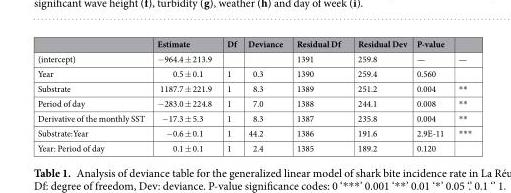table: (36, 37, 471, 153)
table column: (36, 37, 150, 153), (150, 37, 218, 153), (348, 37, 411, 153), (289, 37, 348, 153), (241, 37, 289, 153), (411, 37, 450, 153), (218, 37, 241, 153), (450, 37, 471, 153)
table column header: (36, 37, 471, 50)
table row: (36, 50, 471, 65), (36, 65, 471, 80), (36, 80, 471, 95), (36, 95, 471, 110), (36, 110, 471, 125), (36, 125, 471, 140), (36, 37, 471, 50), (36, 140, 471, 153)
